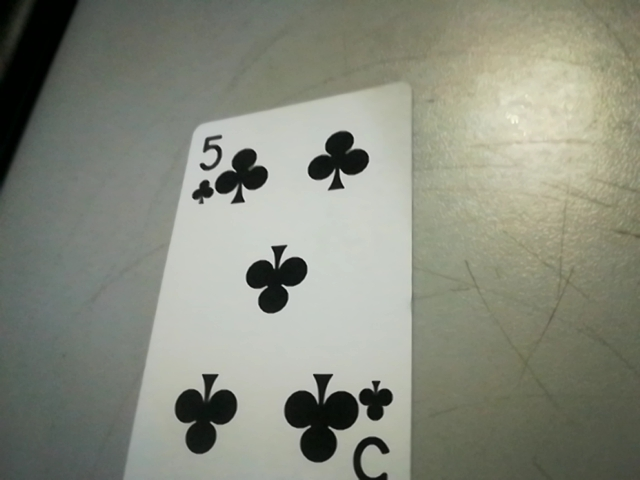mh 5: (172, 133, 227, 228)
